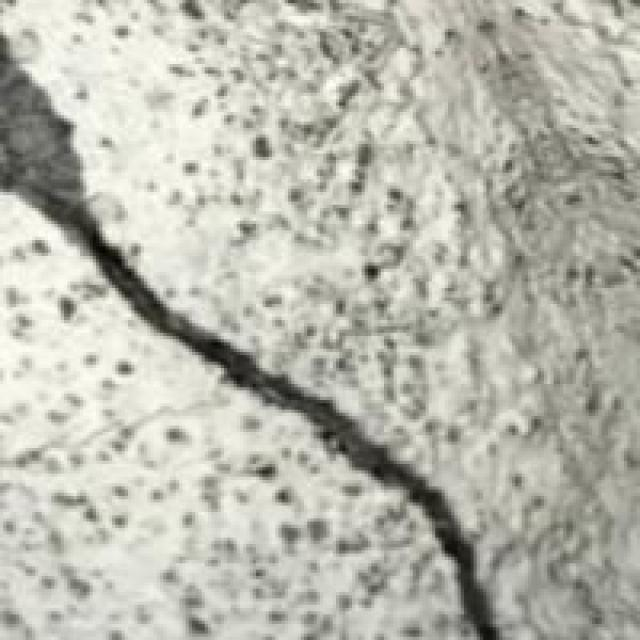crack: (6, 9, 528, 636)
